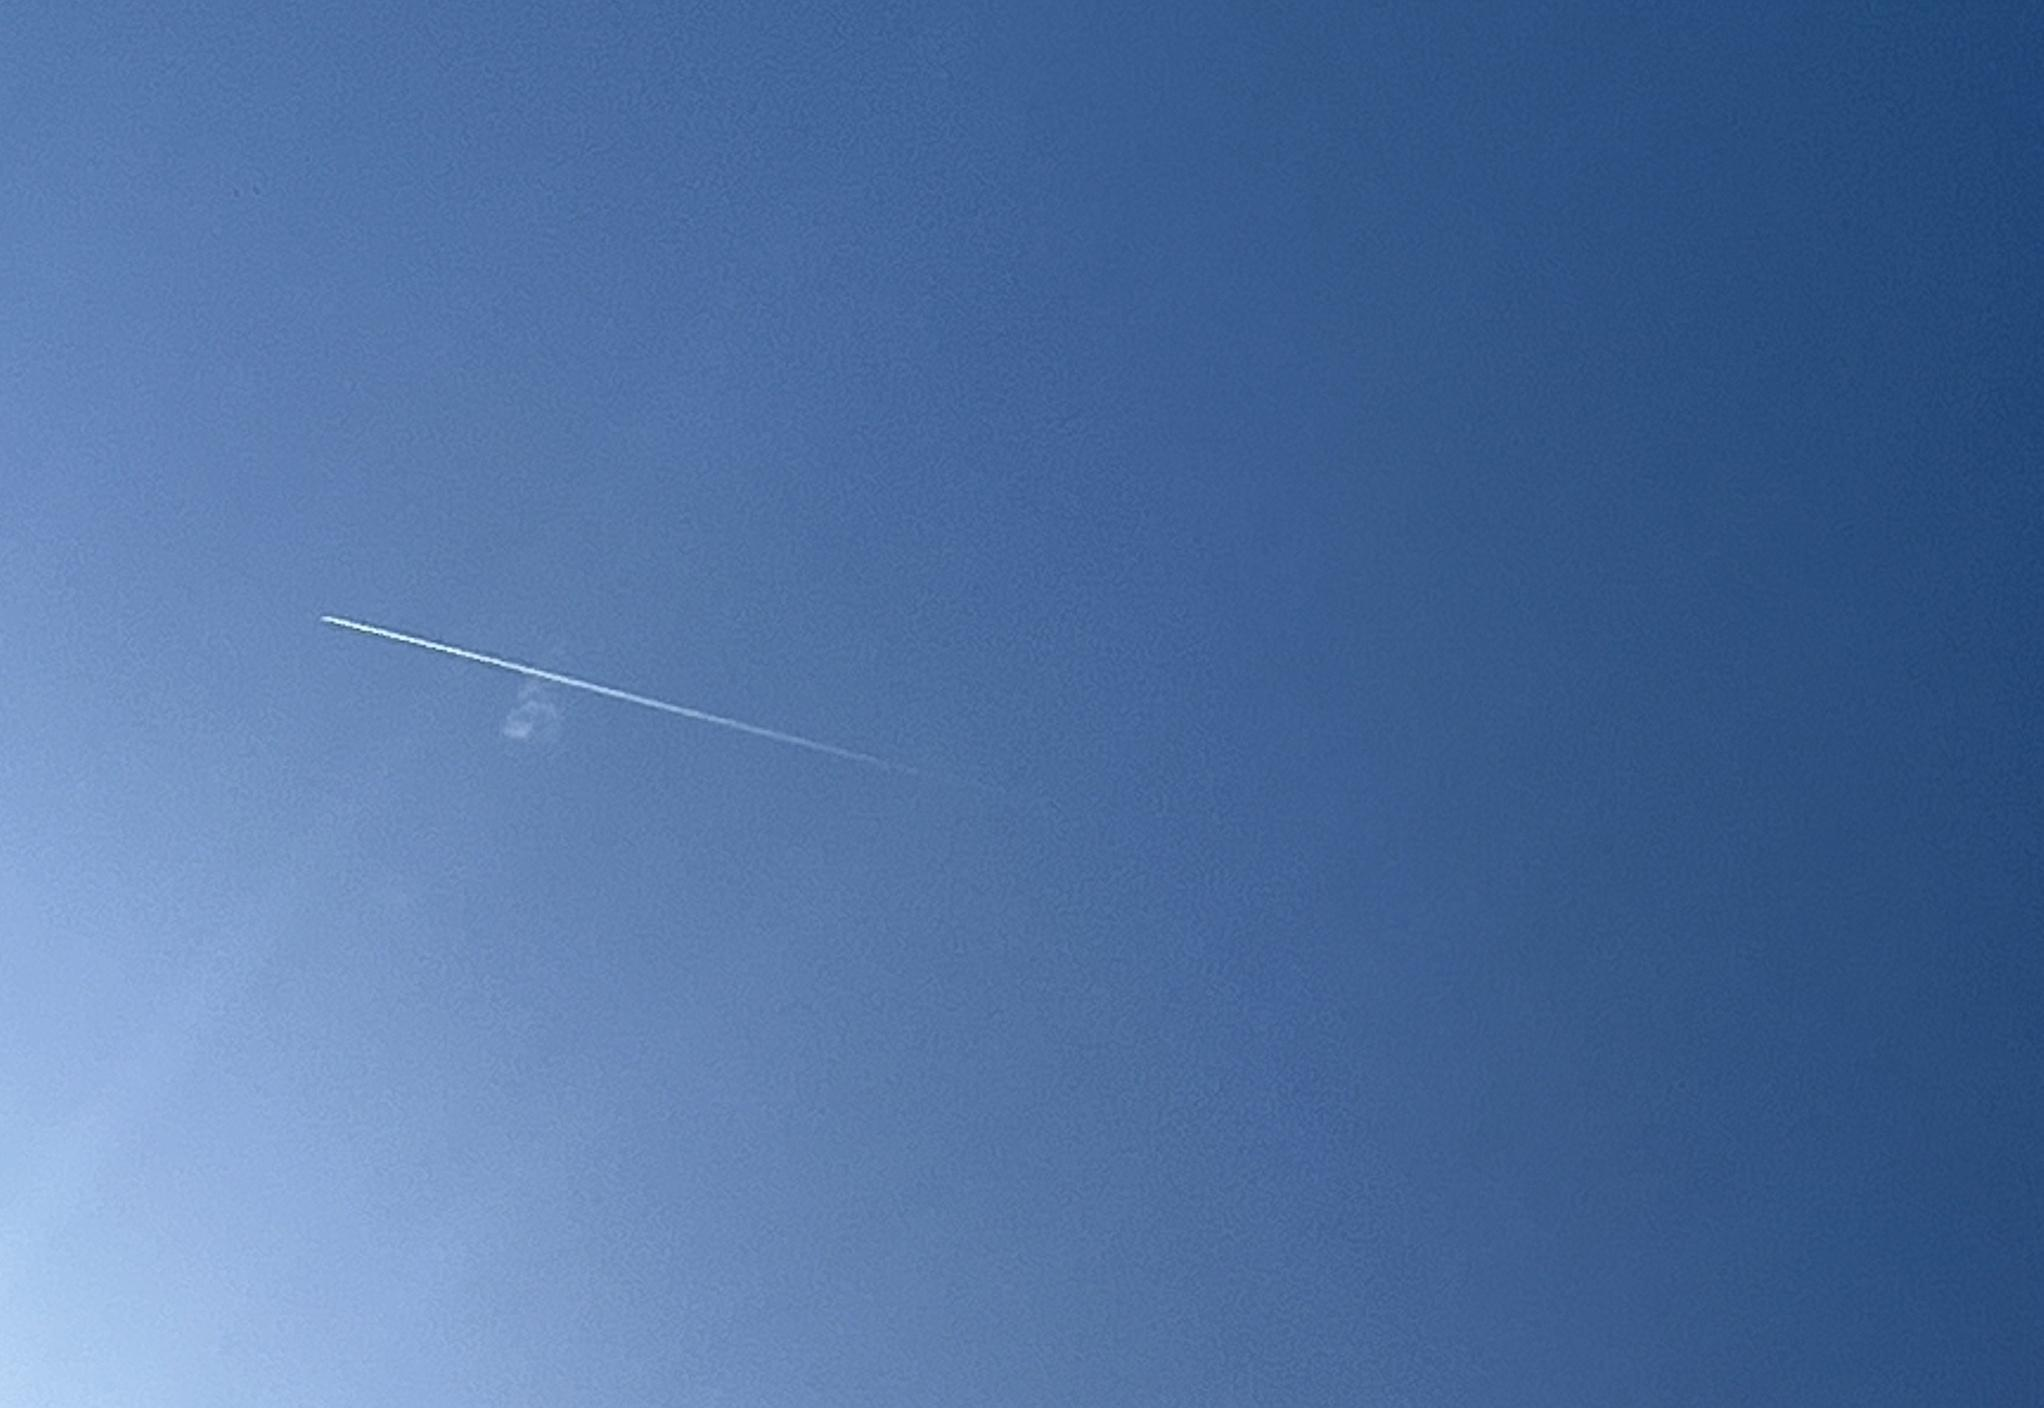Plane: (295, 591, 938, 768)
